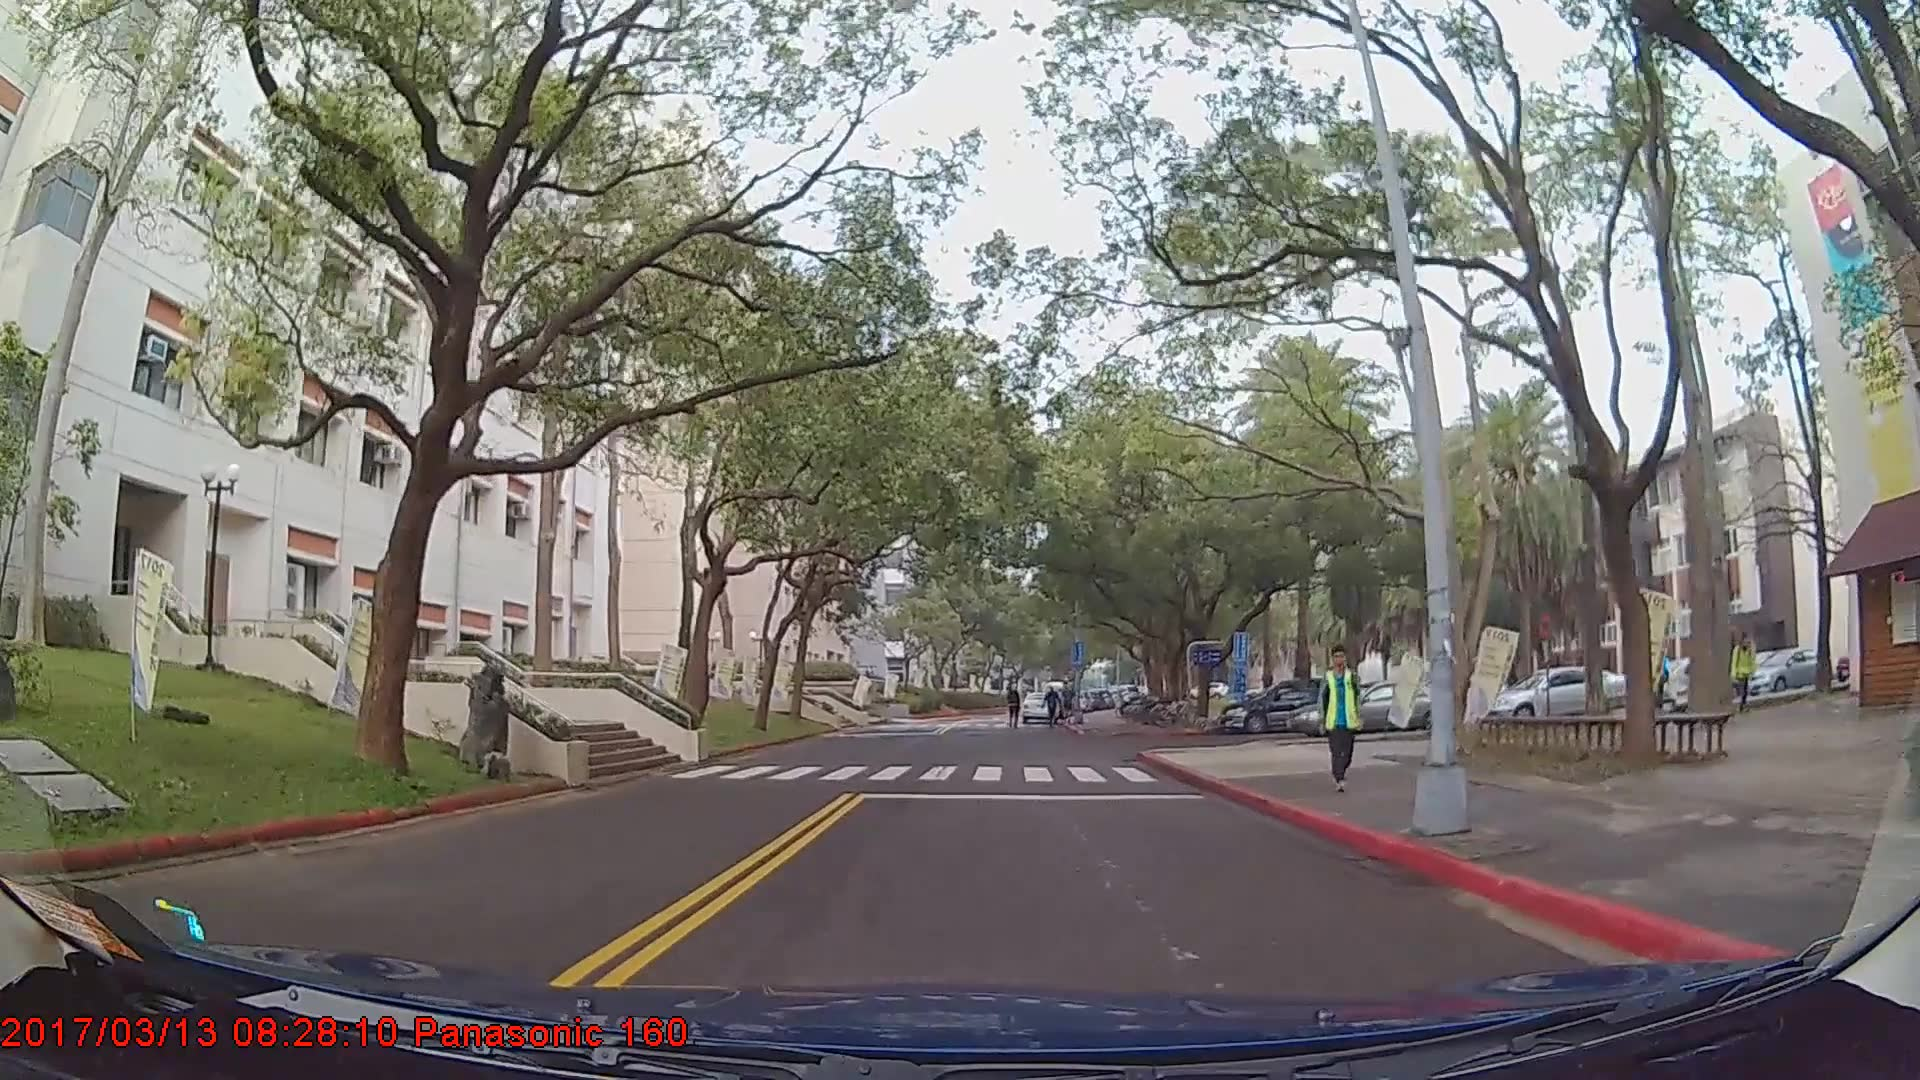pedestrian: (1318, 644, 1366, 791), (1647, 634, 1676, 720), (1734, 632, 1758, 715), (1044, 685, 1064, 729)
vehicle: (1294, 677, 1451, 734), (1482, 663, 1628, 724), (1222, 673, 1346, 730), (1740, 644, 1826, 695), (1021, 691, 1054, 722)
